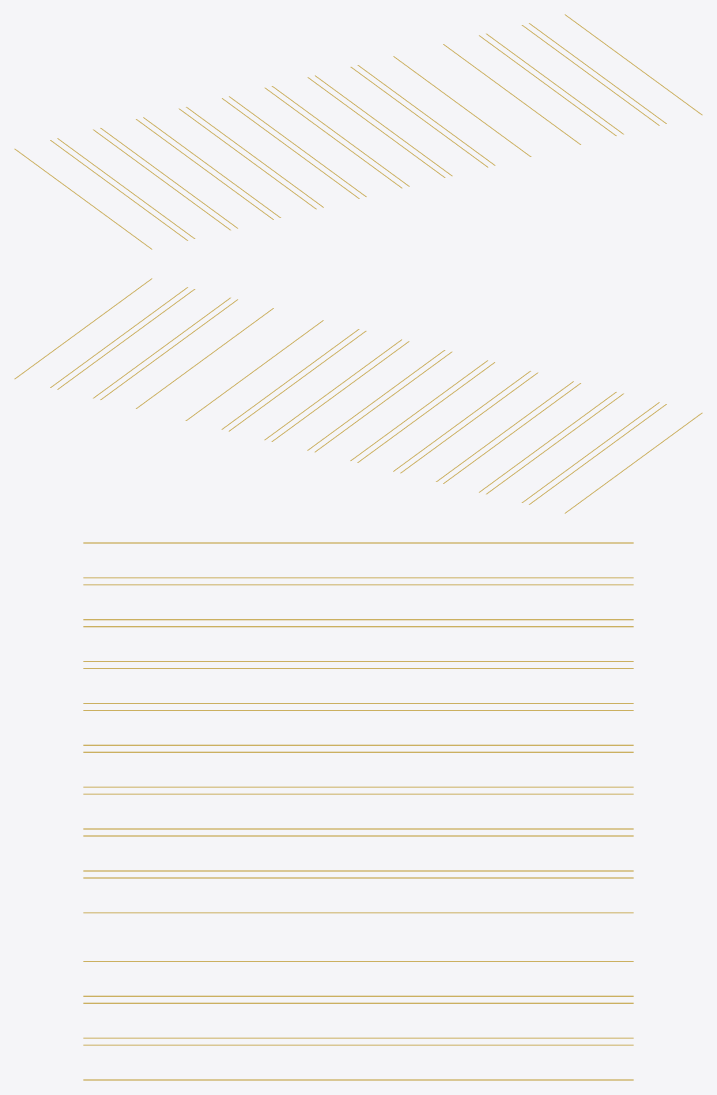
Rendered from SM_MPRR_DockLines_0_-1.fbx.
The picture shows the model from 3 angles, top to bottom: view 1: azimuth 30°, elevation 25°; view 2: azimuth 150°, elevation 25°; view 3: azimuth 270°, elevation 25°; orthographic projection. The views are drawn at different scales.
Parts seen in each view (by area): view 1: SM_MPRR_DockLines_0_-1; view 2: SM_MPRR_DockLines_0_-1; view 3: SM_MPRR_DockLines_0_-1.
Boxes of the visible parts, bbox=[...] form: SM_MPRR_DockLines_0_-1: bbox=[14, 14, 702, 249]; SM_MPRR_DockLines_0_-1: bbox=[14, 278, 702, 513]; SM_MPRR_DockLines_0_-1: bbox=[83, 542, 633, 1080].
Size of the model in its own units: 5093 by 2200 by 0.
